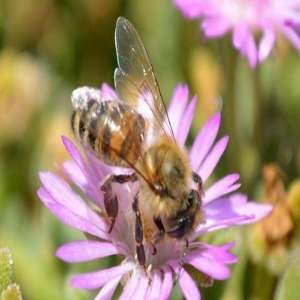bee: (65, 15, 227, 288)
